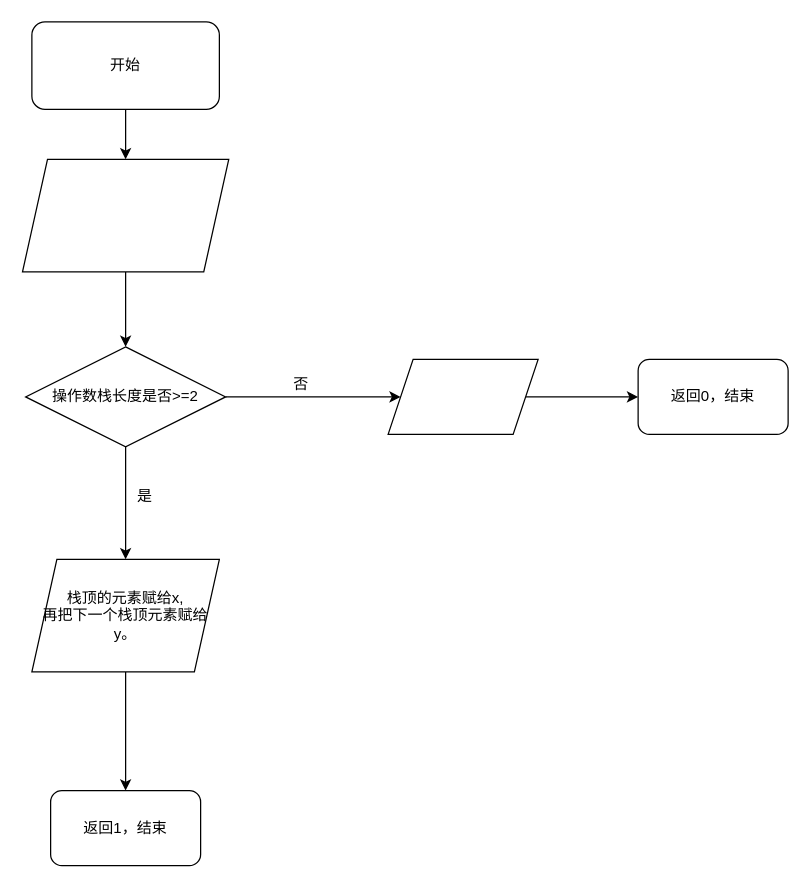
The diagram is 810 pixels wide and 888 high, and some of its shapes have lost their labels. The centre of each missing label's shape, as x and y in pixels:
"打印错误信息。" goes at [462,396].
"输入操作数栈， 用于存放两个操作 数的double变量x,y" goes at [125,215].
